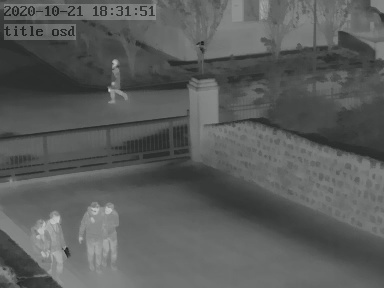person: (42, 209, 71, 281), (79, 200, 106, 269), (98, 197, 122, 268), (106, 56, 122, 102)
